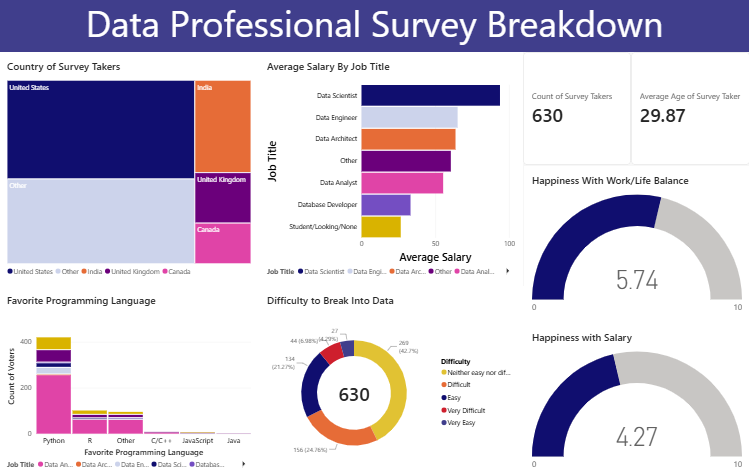

Layout of this report page (visuals, bound fields, positions):
{"tool":"powerbi","page":{"name":"Page 1","canvas":[1920,1080],"ordinal":0},"visuals":[{"type":"textbox","box":[0,0,1502,108],"z":0},{"type":"cardVisual","fields":{"Data":["CountNonNull(Data Professional Survey.Unique ID)"]},"box":[1048,108,216,226],"z":1000},{"type":"cardVisual","fields":{"Data":["Avg(Data Professional Survey.Q10 - Current Age)"]},"box":[1264,108,238,226],"z":2000},{"type":"barChart","title":"Average Salary By Job Title","fields":{"Category":["Data Professional Survey.Q1 - Which Title Best Fits your Current Role?.1"],"Y":["Avg(Data Professional Survey.Average Salary)"],"Series":["Data Professional Survey.Q1 - Which Title Best Fits your Current Role?.1"]},"box":[520,108.3,528.3,468.3],"z":3000},{"type":"columnChart","title":"Favorite Programming Language","fields":{"Category":["Data Professional Survey.Q5 - Favorite Programming Language.1"],"Y":["CountNonNull(Data Professional Survey.Unique ID)"],"Series":["Data Professional Survey.Q1 - Which Title Best Fits your Current Role?.1"]},"box":[0,576.7,520,386.7],"z":4000},{"type":"treemap","title":"Country of Survey Takers","fields":{"Group":["Data Professional Survey.Q11 - Which Country do you live in?.1"],"Values":["CountNonNull(Data Professional Survey.Q11 - Which Country do you live in?.1)"]},"box":[0,108.3,520,468.3],"z":5000},{"type":"gauge","title":"Happiness With Work/Life Balance","fields":{"Y":["Avg(Data Professional Survey.Q6 - How Happy are you in your Current Position with the following? (Work/Life Balance))"],"MinValue":["Min(Data Professional Survey.Q6 - How Happy are you in your Current Position with the following? (Work/Life Balance))"],"MaxValue":["Max(Data Professional Survey.Q6 - How Happy are you in your Current Position with the following? (Work/Life Balance))"]},"box":[1050,336,452,314],"z":6000},{"type":"gauge","title":"Happiness with Salary","fields":{"Y":["Avg(Data Professional Survey.Q6 - How Happy are you in your Current Position with the following? (Salary))"],"MinValue":["Min(Data Professional Survey.Q6 - How Happy are you in your Current Position with the following? (Salary))"],"MaxValue":["Max(Data Professional Survey.Q6 - How Happy are you in your Current Position with the following? (Salary))"]},"box":[1050,650,452,314],"z":7000},{"type":"donutChart","title":"Difficulty to Break Into Data","fields":{"Category":["Data Professional Survey.Q7 - How difficult was it for you to break into Data?"],"Y":["CountNonNull(Data Professional Survey.Q7 - How difficult was it for you to break into Data?)"],"Series":["Data Professional Survey.Q7 - How difficult was it for you to break into Data?"]},"box":[520,576.7,530,386.7],"z":8000}]}

Visuals, with their boxes on the page's 1920x1080 design canvas (x1, y1, x2, y2). These are canvas units, not pixel positions in the 749x476 screenshot, which may show the page scaled, cropped or inside an application window:
textbox: [0, 0, 1502, 108]
cardVisual - CountNonNull(Data Professional Survey.Unique ID): [1048, 108, 1264, 334]
cardVisual - Avg(Data Professional Survey.Q10 - Current Age): [1264, 108, 1502, 334]
"Average Salary By Job Title" barChart: [520, 108, 1048, 577]
"Favorite Programming Language" columnChart: [0, 577, 520, 963]
"Country of Survey Takers" treemap: [0, 108, 520, 577]
"Happiness With Work/Life Balance" gauge: [1050, 336, 1502, 650]
"Happiness with Salary" gauge: [1050, 650, 1502, 964]
"Difficulty to Break Into Data" donutChart: [520, 577, 1050, 963]
